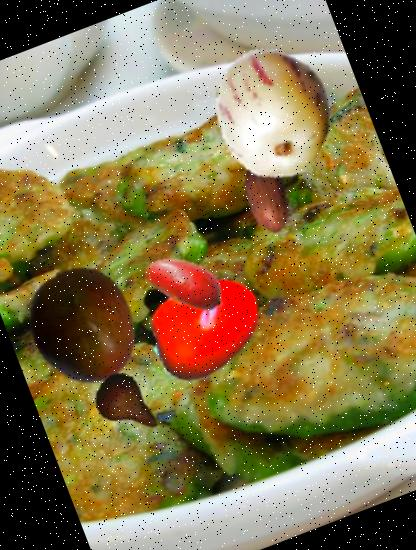Kaki: (132, 252, 280, 400)
Mango: (5, 249, 161, 405)
Nut: (215, 146, 316, 246)
Pear: (84, 360, 174, 450)
Pepino: (190, 33, 354, 197)
Potato: (131, 229, 238, 336)
